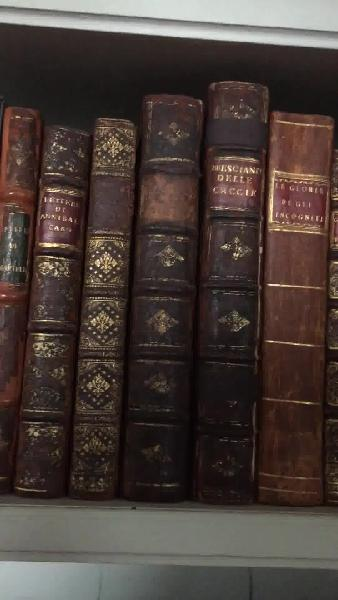Aa6-29: (11, 120, 83, 508)
Aa6-30: (73, 110, 141, 503)
Aa6-31: (134, 92, 194, 504)
Aa6-32: (198, 75, 265, 504)
Aa6-33: (254, 96, 329, 510)
